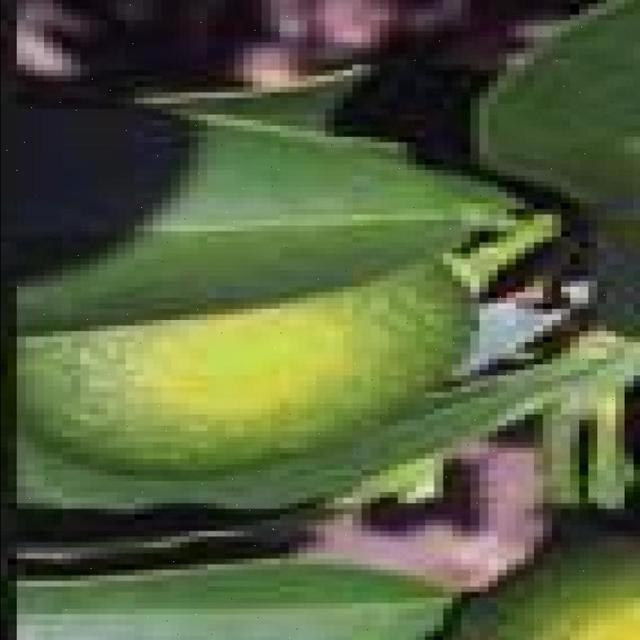Sunscald Fruit: (71, 202, 271, 288)
